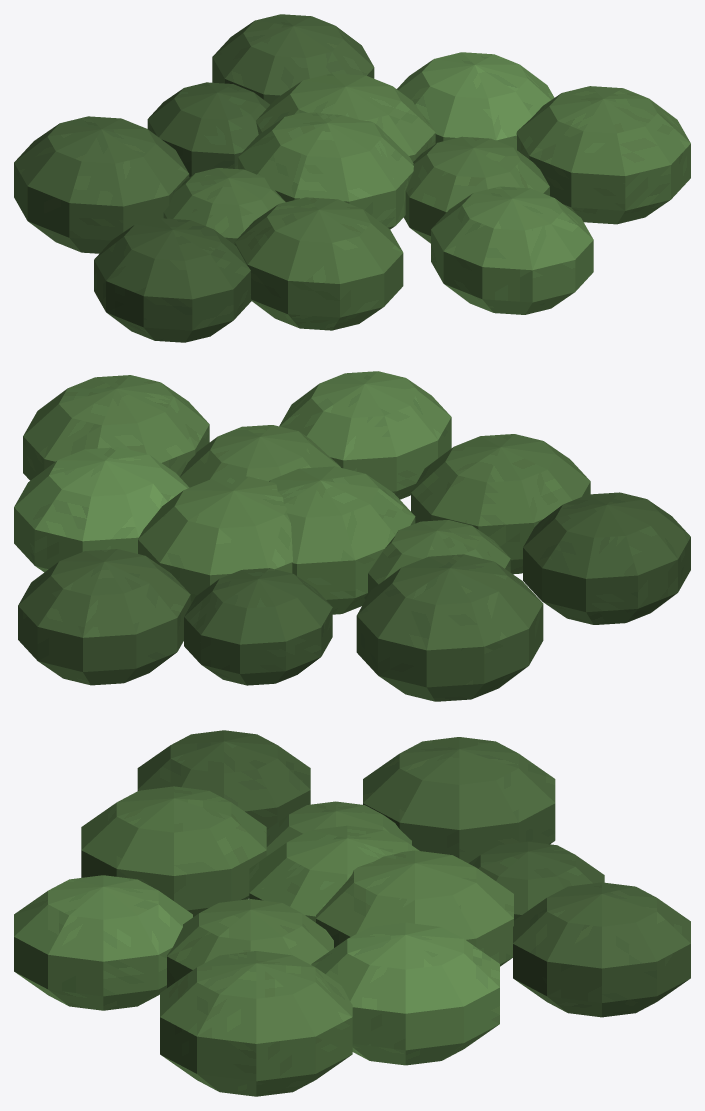
Rendered from pistachio_shelled.glb.
3 renders of one model, top to bottom at view 1: azimuth 30°, elevation 25°; view 2: azimuth 150°, elevation 25°; view 3: azimuth 270°, elevation 25°, orthographic. The views are drawn at different scales.
Visible parts, largest first — view 1: block_grain 11, block_grain 5, block_grain 7, block_grain 8, block_grain 10, block_grain 0, block_grain 6, block_grain 9, block_grain 3, block_grain 4, block_grain 1, block_grain 2; view 2: block_grain 7, block_grain 9, block_grain 10, block_grain 6, block_grain 5, block_grain 4, block_grain 8, block_grain 1, block_grain 0, block_grain 11, block_grain 3, block_grain 2; view 3: block_grain 11, block_grain 9, block_grain 6, block_grain 8, block_grain 7, block_grain 5, block_grain 1, block_grain 10, block_grain 0, block_grain 3, block_grain 4, block_grain 2.
Boxes of the visible parts, x1,y1,x2,y2 form: block_grain 11: [516, 86, 690, 224]; block_grain 5: [234, 197, 403, 330]; block_grain 7: [14, 116, 189, 253]; block_grain 8: [431, 186, 593, 314]; block_grain 10: [94, 218, 251, 342]; block_grain 0: [238, 112, 413, 229]; block_grain 6: [397, 52, 554, 149]; block_grain 9: [212, 14, 374, 104]; block_grain 3: [404, 136, 549, 243]; block_grain 4: [147, 82, 269, 176]; block_grain 1: [256, 73, 435, 161]; block_grain 2: [163, 168, 285, 244]; block_grain 7: [356, 554, 543, 701]; block_grain 9: [18, 549, 190, 685]; block_grain 10: [523, 492, 690, 624]; block_grain 6: [14, 447, 189, 572]; block_grain 5: [411, 434, 590, 574]; block_grain 4: [184, 568, 332, 685]; block_grain 8: [279, 371, 451, 499]; block_grain 1: [138, 476, 292, 604]; block_grain 0: [269, 466, 415, 614]; block_grain 11: [23, 375, 209, 480]; block_grain 3: [180, 425, 340, 487]; block_grain 2: [364, 520, 510, 599]; block_grain 11: [160, 951, 352, 1096]; block_grain 9: [513, 882, 690, 1017]; block_grain 6: [311, 922, 499, 1065]; block_grain 8: [14, 875, 192, 1010]; block_grain 7: [363, 737, 555, 863]; block_grain 5: [81, 786, 266, 916]; block_grain 1: [316, 850, 513, 966]; block_grain 10: [137, 730, 310, 829]; block_grain 0: [249, 825, 419, 922]; block_grain 3: [167, 899, 333, 987]; block_grain 4: [468, 841, 604, 920]; block_grain 2: [266, 801, 411, 855].
Size of the model in its own units: 0.0716 by 0.0135 by 0.0666.
Materials: 1 (1 with a texture image).
